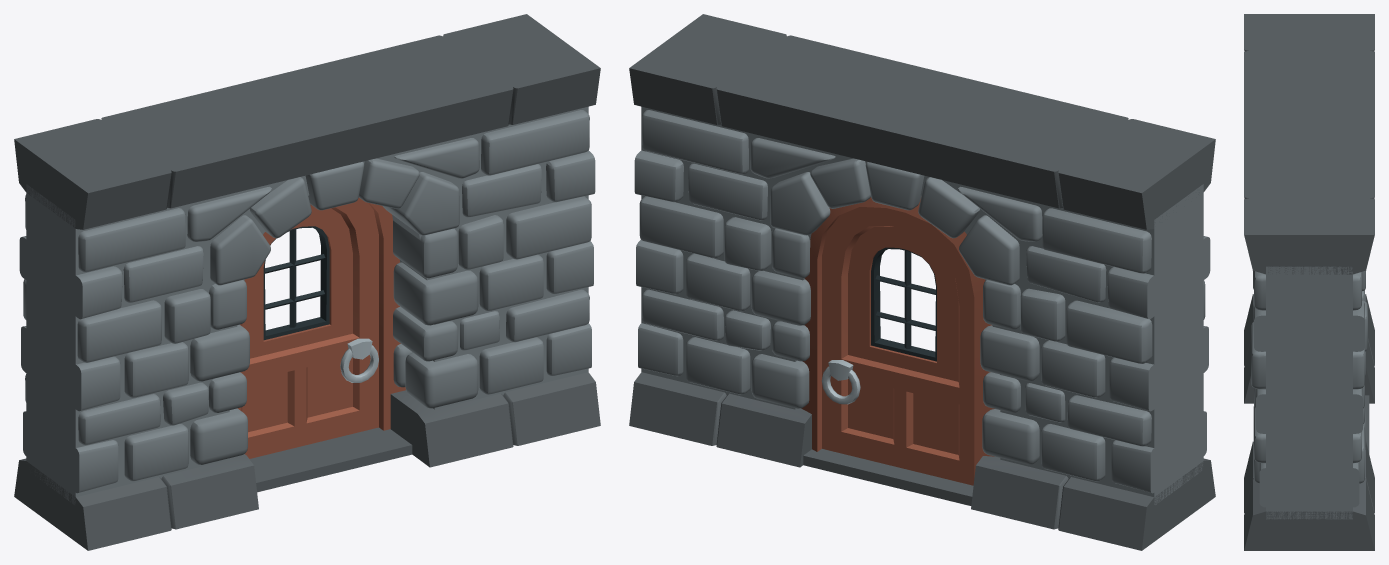
The model's file is EntranceDoor.fbx.
3 views of the same model, side by side, from view 1: azimuth 30°, elevation 25°; view 2: azimuth 150°, elevation 25°; view 3: azimuth 270°, elevation 25° (orthographic). The views are drawn at different scales.
Visible parts, largest first — view 1: entrance2, door2; view 2: entrance2, door2; view 3: entrance2.
Part boxes in pixels (x1,y1,x2,y2): entrance2: (14, 14, 600, 550); door2: (238, 197, 378, 458); entrance2: (629, 14, 1215, 550); door2: (821, 207, 974, 485); entrance2: (1244, 14, 1374, 550).
Size of the model in its own units: 6 by 4 by 1.5.
